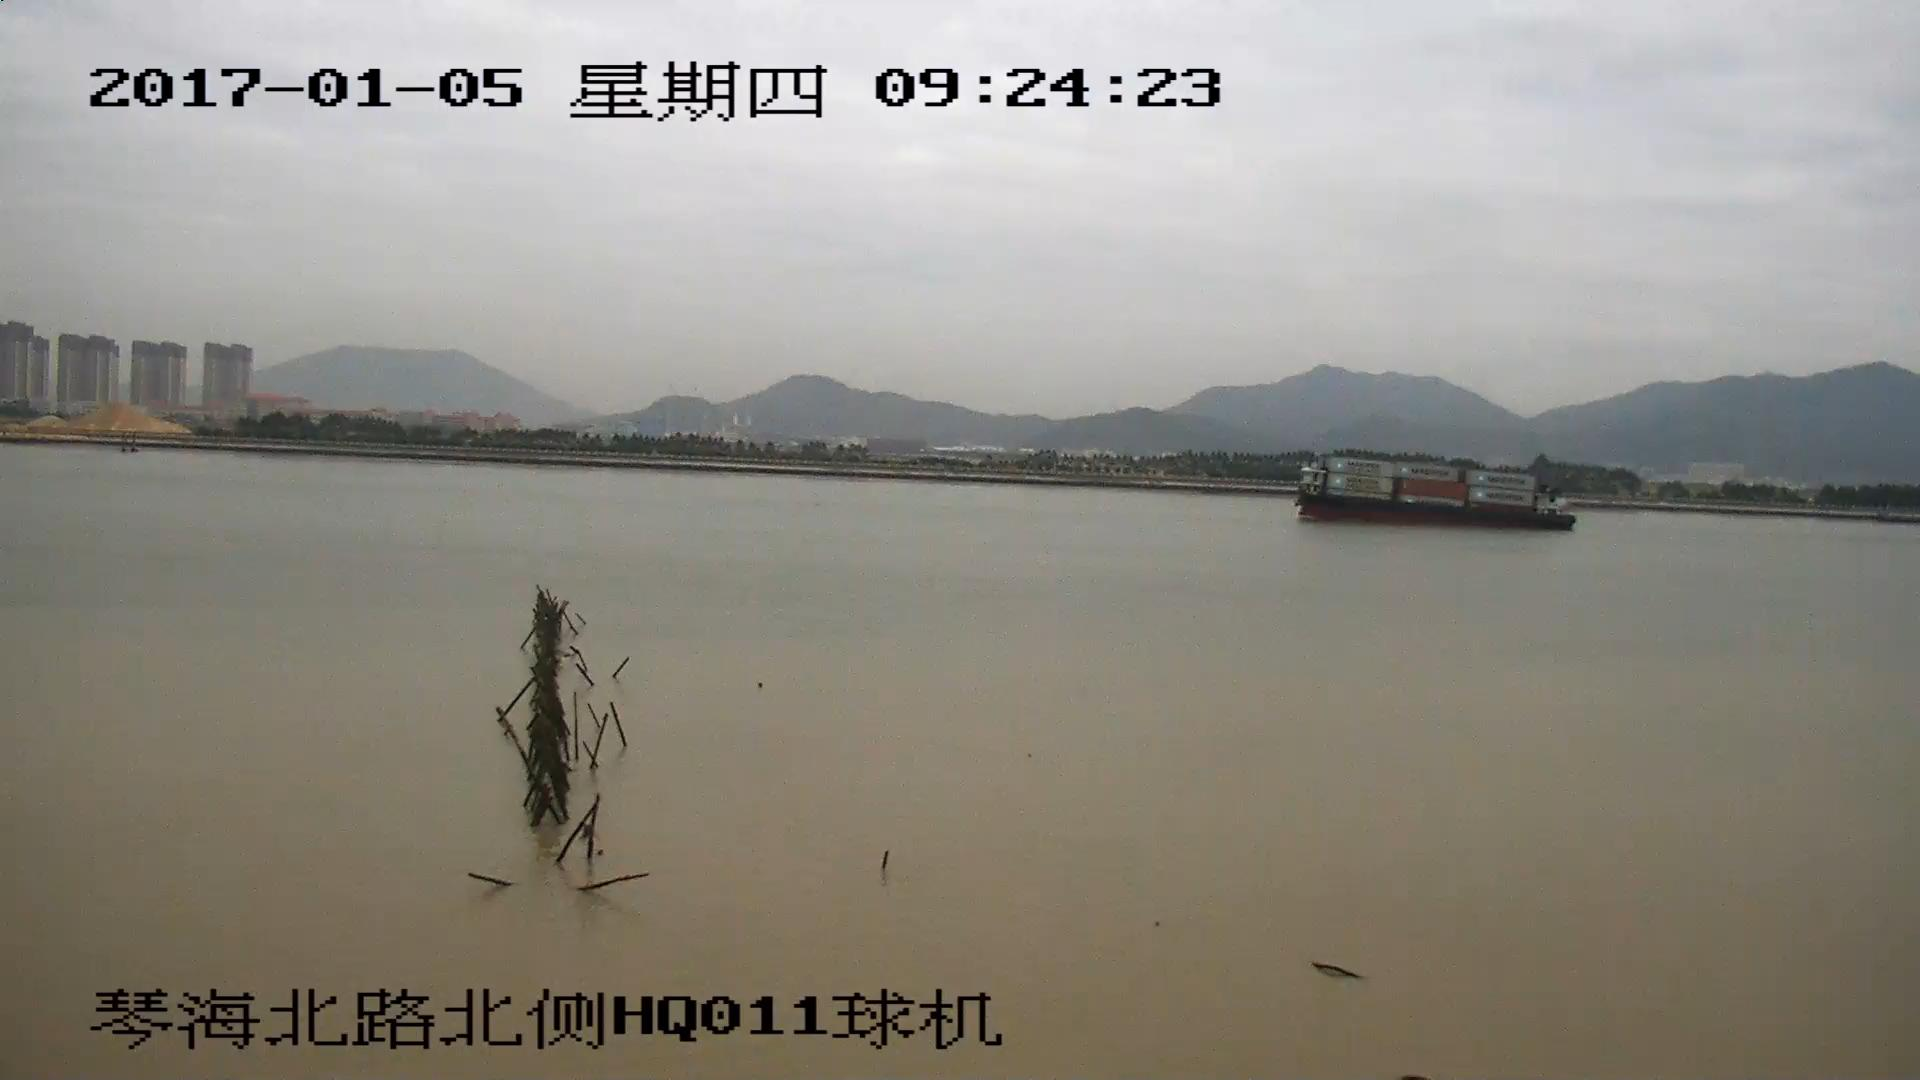container ship: (1296, 458, 1575, 531)
